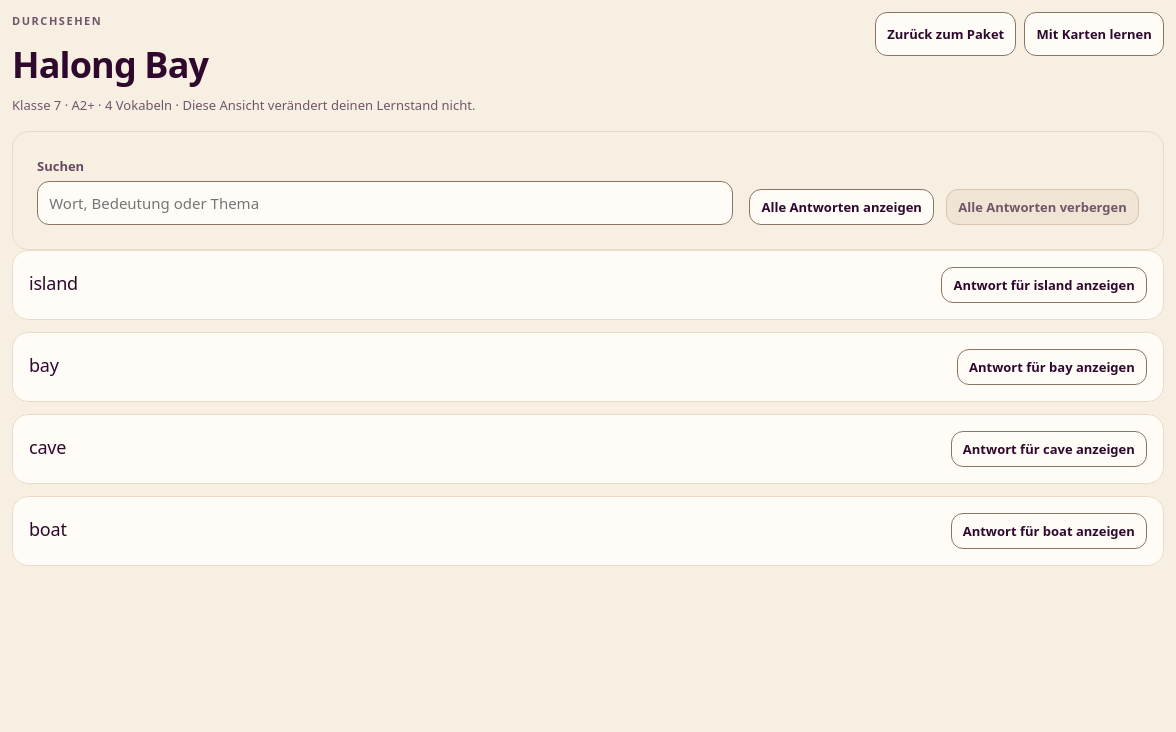
Test: Kopfnavigation der Lernansichten › führt „Mit Karten lernen“ in dasselbe Paket
Expected: the heading "island" is shown, [29, 273, 78, 294]
Step 1. Click the link "Mit Karten lernen" → (1094, 34), box [1024, 12, 1164, 56]
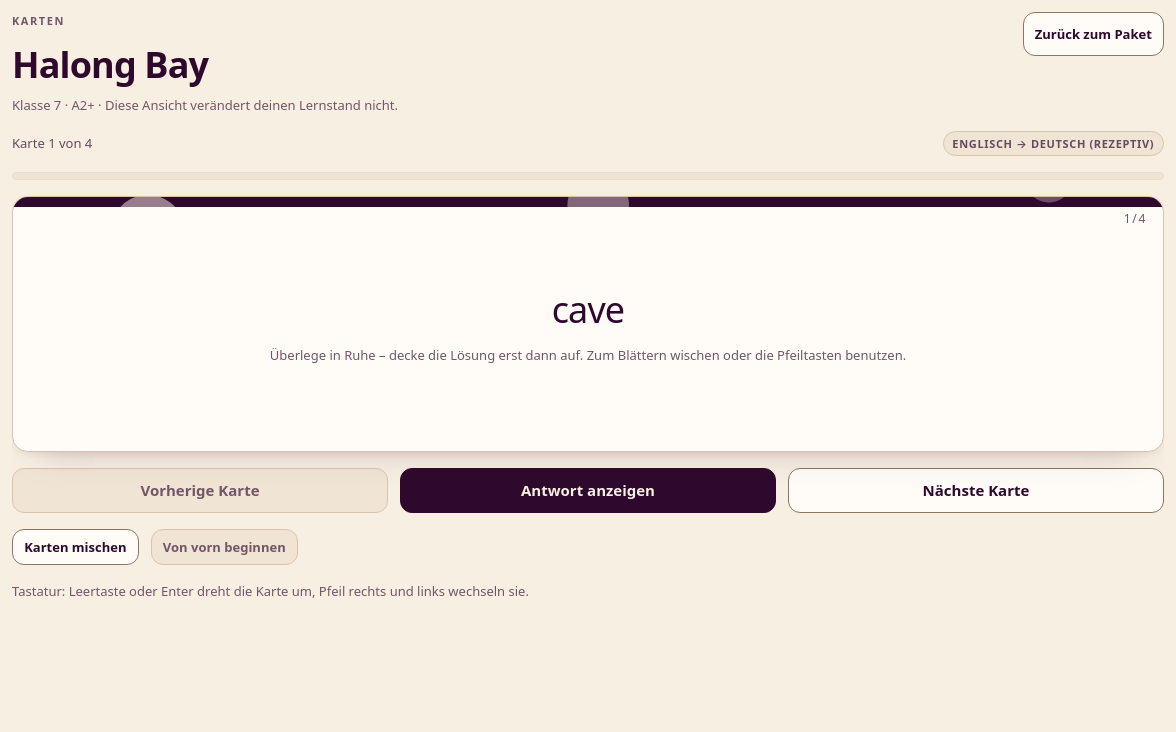
Expected: the heading "Halong Bay" is shown, [12, 40, 208, 89]
Expected: the text "Karte 1 von 4" is shown, [12, 133, 92, 154]
